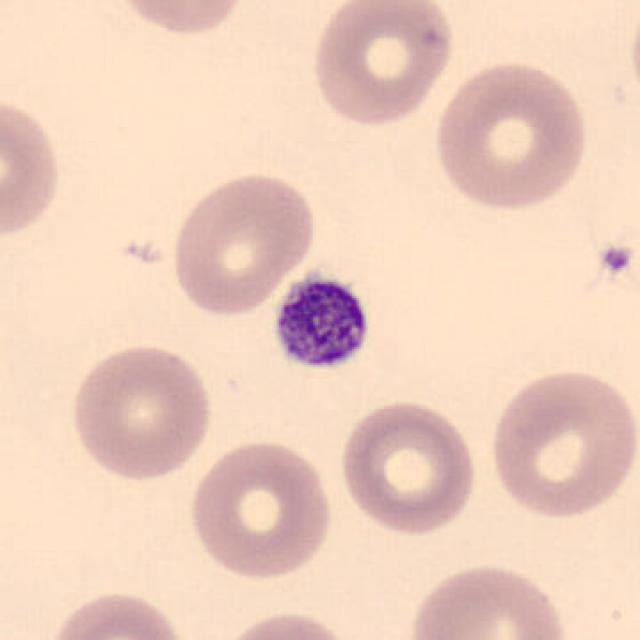Platelets: (268, 270, 377, 377), (596, 238, 636, 279)
RBC: (428, 56, 592, 214), (486, 363, 638, 522), (167, 168, 320, 319), (185, 434, 338, 582), (66, 339, 217, 483), (336, 397, 482, 538), (307, 0, 458, 130), (402, 559, 574, 640), (0, 92, 66, 245), (43, 585, 192, 640), (105, 0, 252, 39), (211, 608, 361, 640)
